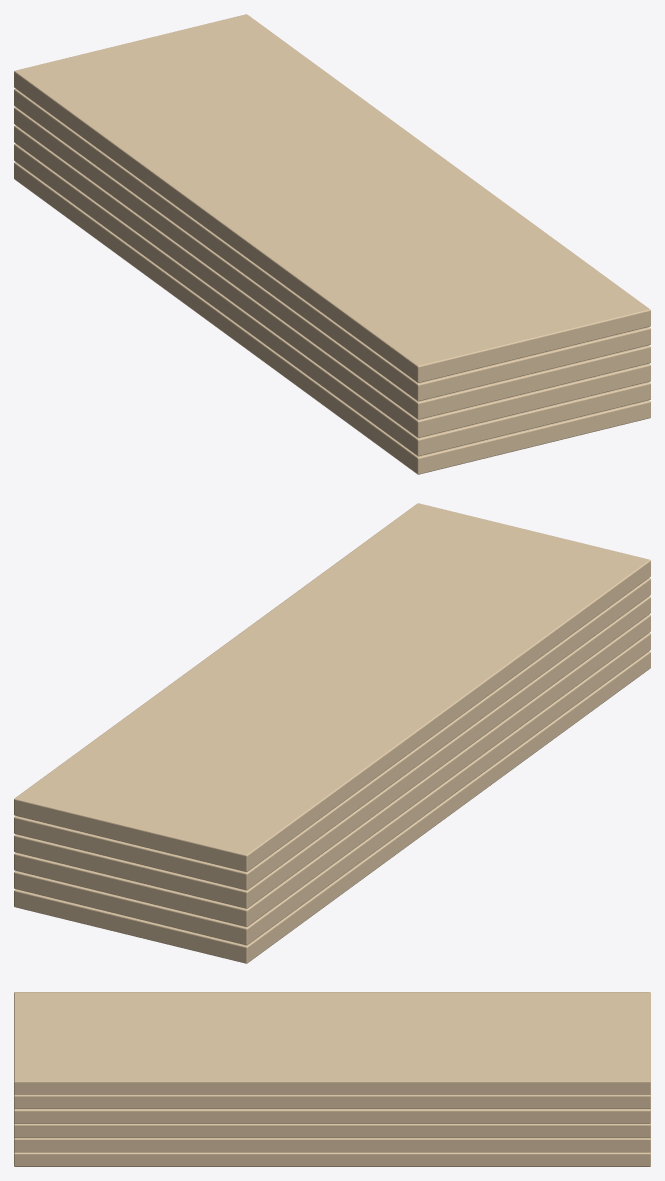
File: planks.glb
3 renders of one model, top to bottom at view 1: azimuth 30°, elevation 25°; view 2: azimuth 150°, elevation 25°; view 3: azimuth 270°, elevation 25°, orthographic. The views are drawn at different scales.
Parts seen in each view (by area): view 1: planks; view 2: planks; view 3: planks.
Part boxes in pixels (bbox=[...]): planks: bbox=[14, 14, 650, 474]; planks: bbox=[14, 503, 650, 963]; planks: bbox=[14, 992, 650, 1166].
Bounding box in the file's own units: 1 × 0.445 × 3.
